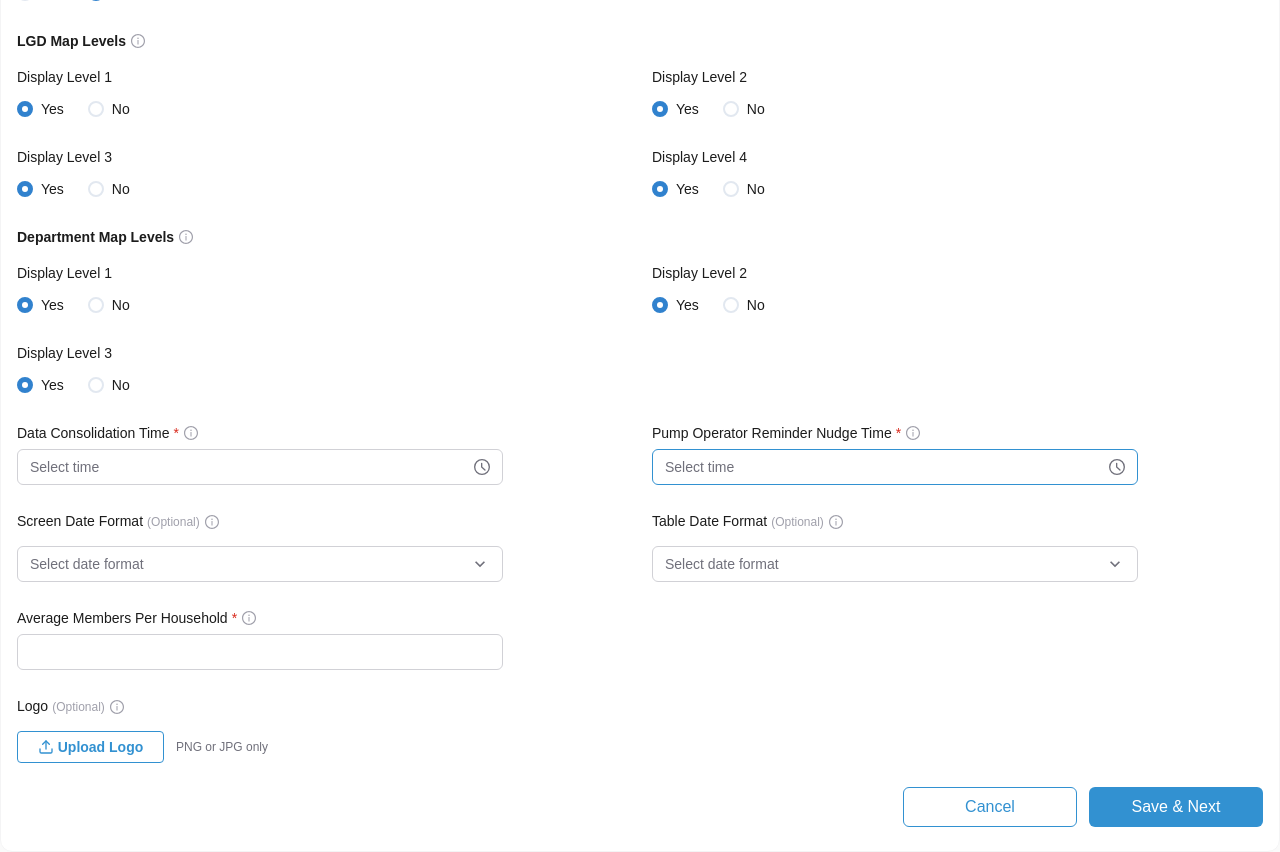
Test case: ConfigurationPage › shows inline error for no channels selected on save
(page scrolled)
Click the button "Save & Next". click: [1176, 807]
box: [1089,787,1263,827]
(page scrolled)
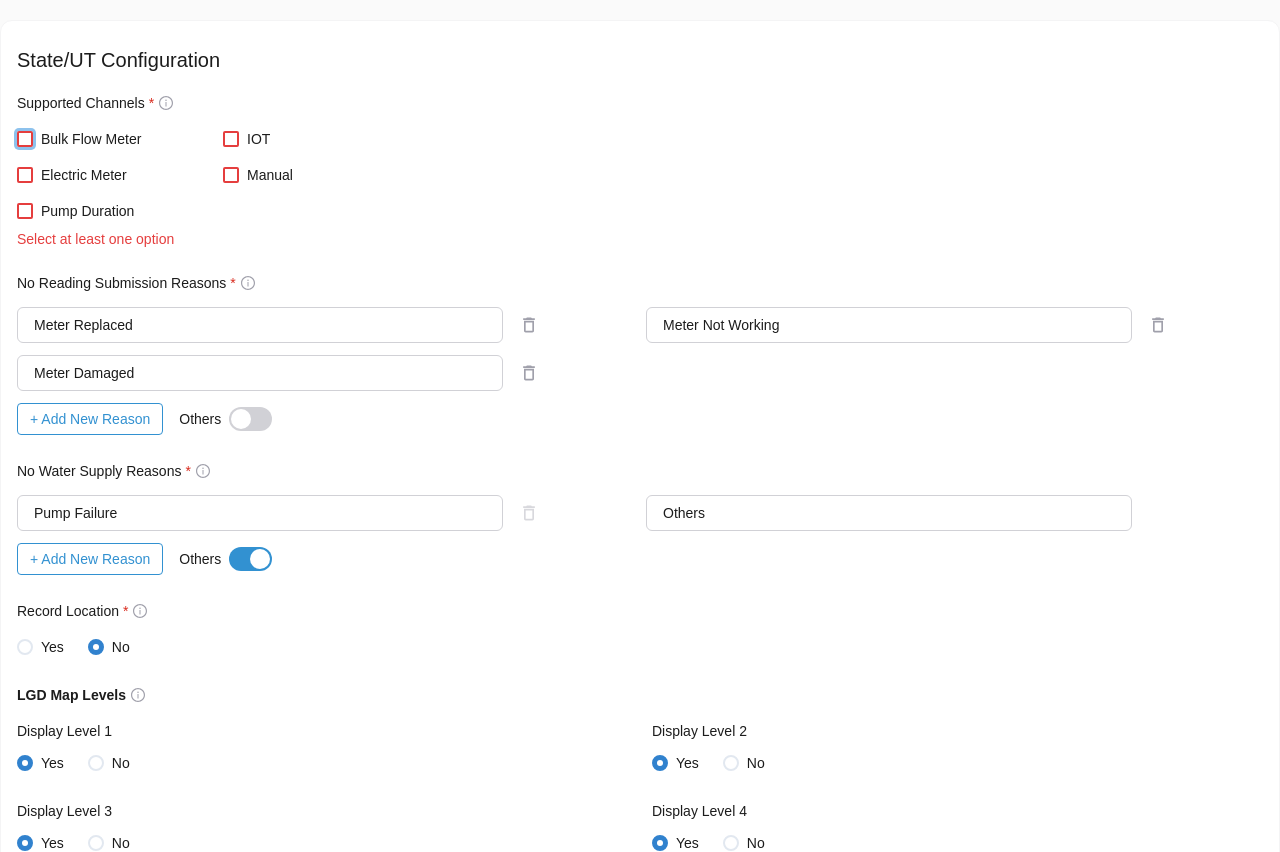
Expected: the text "Select at least one option" is shown, [17,231,174,247]
